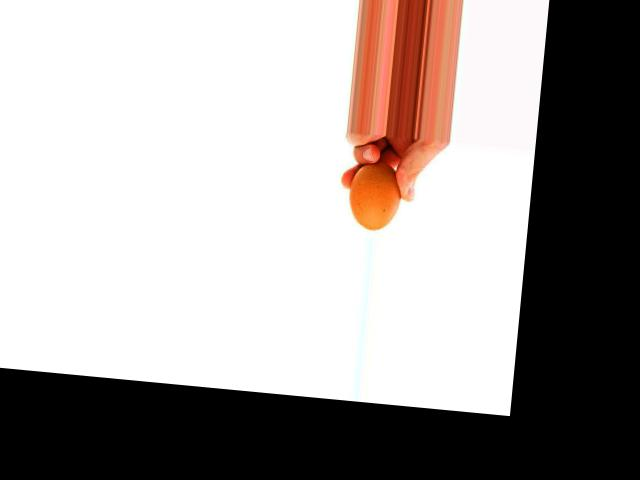egg: (345, 160, 403, 232)
